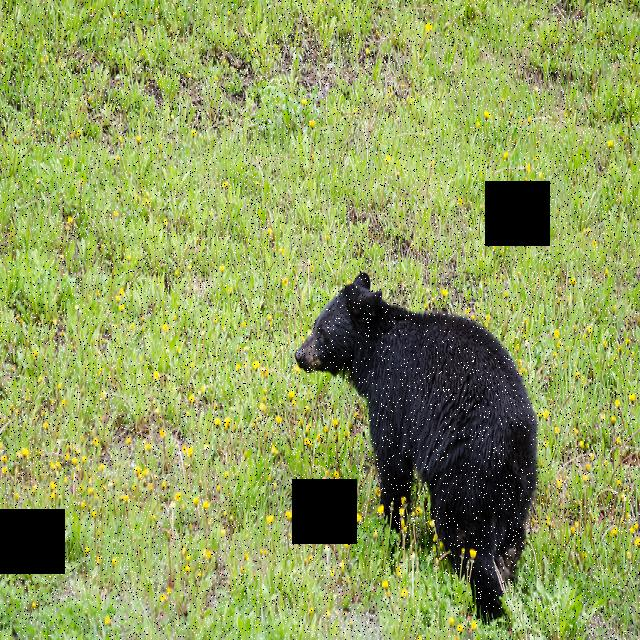Bear: (290, 268, 540, 624)
